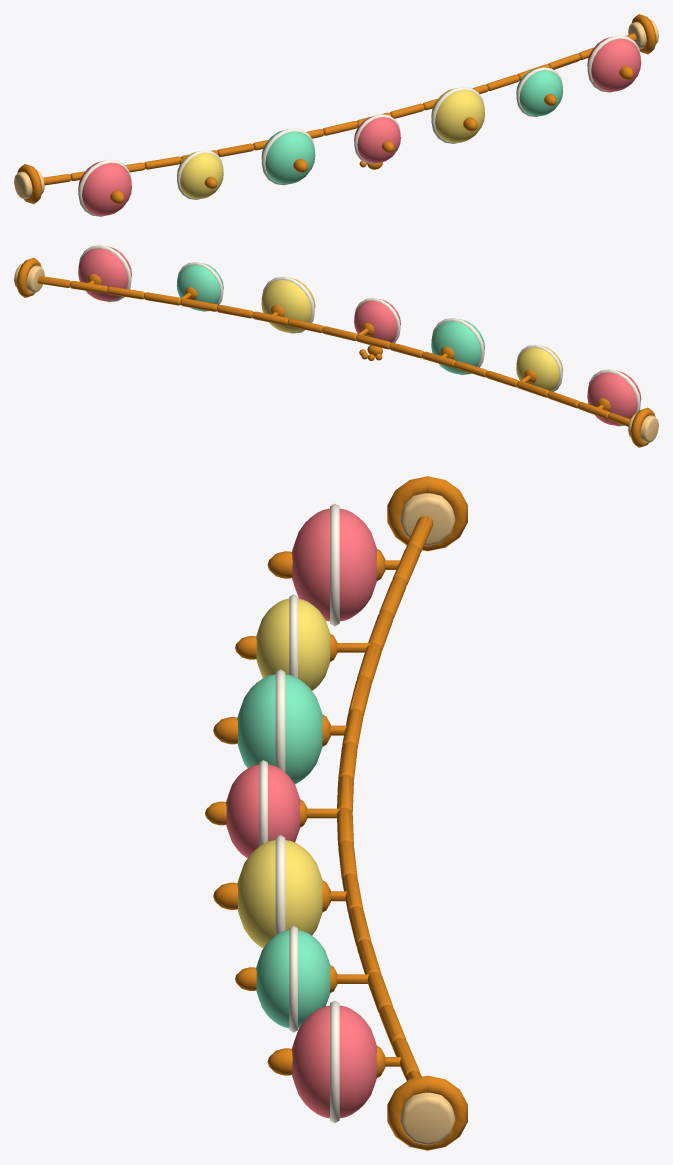
The model's file is BalconyLanternString_Premium.fbx.
3 renders of one model, top to bottom at view 1: azimuth 30°, elevation 25°; view 2: azimuth 150°, elevation 25°; view 3: azimuth 270°, elevation 25°, orthographic. The views are drawn at different scales.
Visible parts, largest first — view 1: BalconyLanternString; view 2: BalconyLanternString; view 3: BalconyLanternString.
Boxes of the visible parts, <box> form: BalconyLanternString: <box>14,14,658,216</box>; BalconyLanternString: <box>14,245,658,447</box>; BalconyLanternString: <box>205,476,467,1150</box>.
Size of the model in its own units: 1.59 by 0.1414 by 0.2857.
